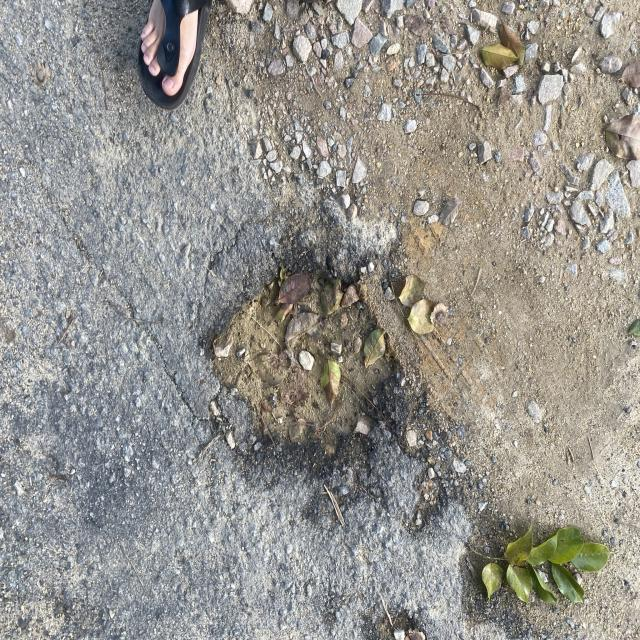Pothole: (183, 207, 410, 530)
